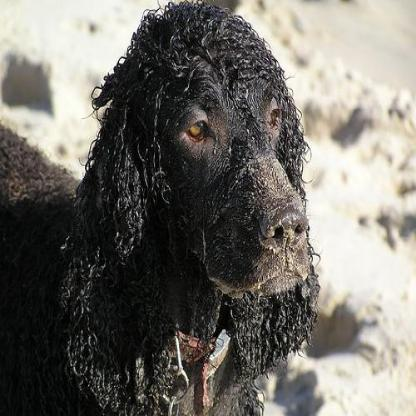Irish_water_spaniel: (0, 1, 319, 413)
